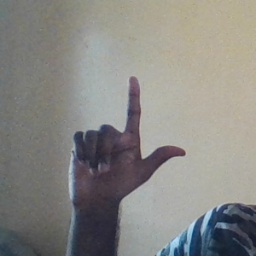L: (68, 76, 190, 202)
